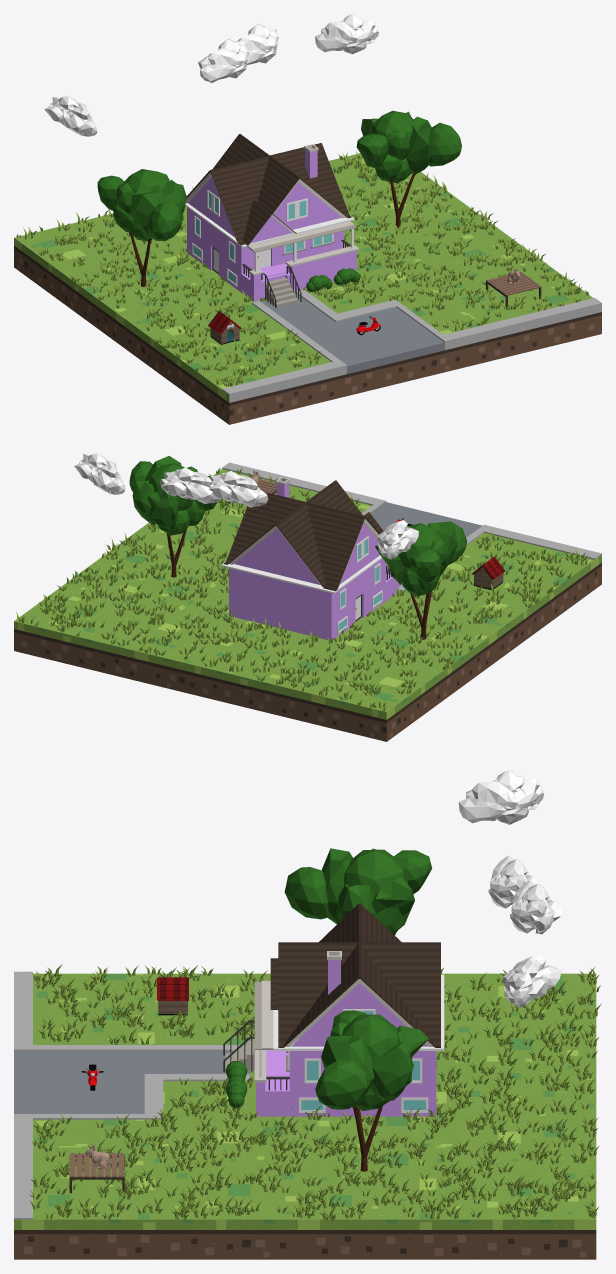
The picture shows the model from 3 angles, top to bottom: view 1: azimuth 30°, elevation 25°; view 2: azimuth 150°, elevation 25°; view 3: azimuth 270°, elevation 25°; orthographic projection. The views are drawn at different scales.
Visible parts, largest first — view 1: Cube.006, Cube.391, Circle.012_Grass_0.192, Cube.007, tree, tree.001, Cube.009, OBJRANDOM_DOGHOUSE; view 2: Cube.006, Cube.391, Circle.012_Grass_0.192, Cube.007, tree.001, tree, OBJRANDOM_DOGHOUSE; view 3: Cube.006, Circle.012_Grass_0.192, Cube.391, tree, Cube.007, tree.001, Cube.009, OBJRANDOM_DOGHOUSE.
Part boxes in pixels (x1,y1,x2,y2): Cube.006: (14, 153, 601, 424); Cube.391: (185, 134, 359, 308); Circle.012_Grass_0.192: (16, 150, 588, 386); Cube.007: (44, 14, 378, 136); tree: (356, 110, 461, 228); tree.001: (97, 169, 186, 286); Cube.009: (486, 272, 541, 306); OBJRANDOM_DOGHOUSE: (208, 311, 241, 344); Cube.006: (14, 462, 601, 741); Cube.391: (221, 477, 398, 640); Circle.012_Grass_0.192: (16, 468, 588, 711); Cube.007: (74, 453, 418, 559); tree.001: (375, 521, 467, 639); tree: (129, 456, 216, 577); OBJRANDOM_DOGHOUSE: (472, 556, 505, 589); Cube.006: (14, 971, 596, 1259); Circle.012_Grass_0.192: (29, 964, 601, 1220); Cube.391: (223, 903, 444, 1116); tree: (315, 1010, 428, 1171); Cube.007: (458, 770, 561, 1007); tree.001: (284, 848, 432, 935); Cube.009: (69, 1153, 124, 1193); OBJRANDOM_DOGHOUSE: (157, 977, 188, 1015).
Size of the model in its own units: 4071 by 2198 by 4040.
Materials: 41 (4 with a texture image).
